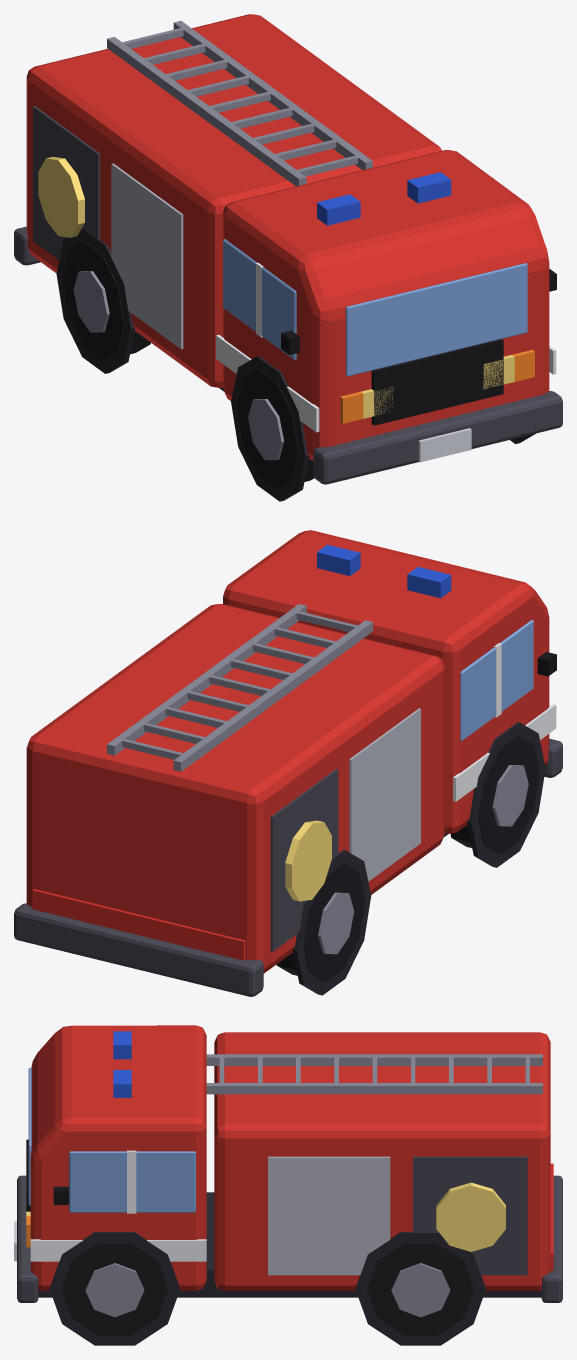
File: firetruck.glb
3 views of the same model, one above another, from view 1: azimuth 30°, elevation 25°; view 2: azimuth 150°, elevation 25°; view 3: azimuth 270°, elevation 25° (orthographic). The views are drawn at different scales.
Visible parts, largest first — view 1: Firetruck; view 2: Firetruck; view 3: Firetruck.
Boxes of the visible parts, x1,y1,x2,y2 form: Firetruck: [14, 14, 562, 501]; Firetruck: [14, 530, 562, 996]; Firetruck: [14, 1025, 562, 1345].
Size of the model in its own units: 1.77 by 1.71 by 3.59.
1 material, 1 textured.
